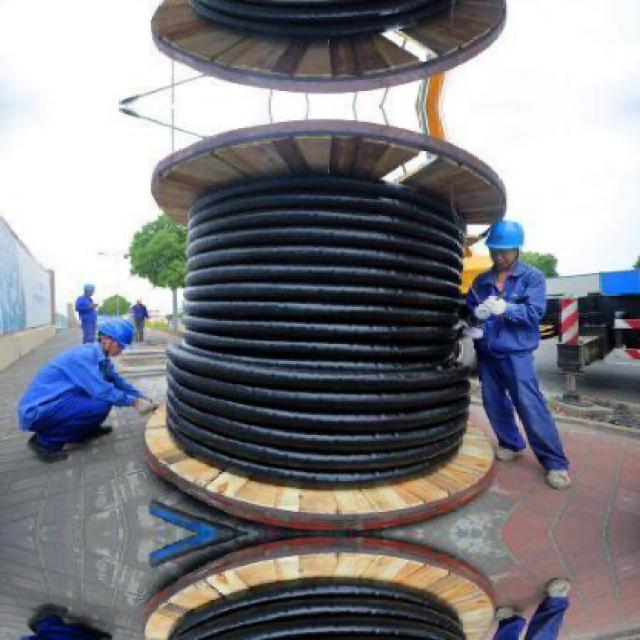helmet: (486, 217, 528, 270), (94, 315, 137, 359), (82, 280, 100, 298)
